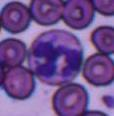N: (28, 28, 84, 86)
